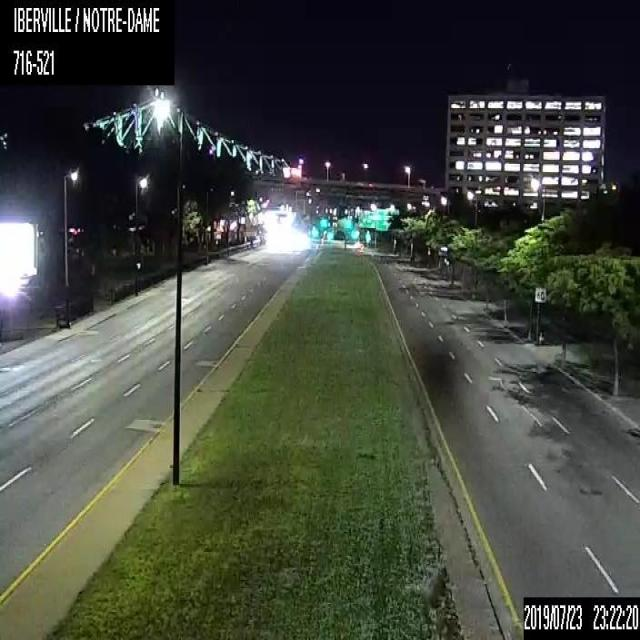vehicle: (350, 241, 365, 256)
